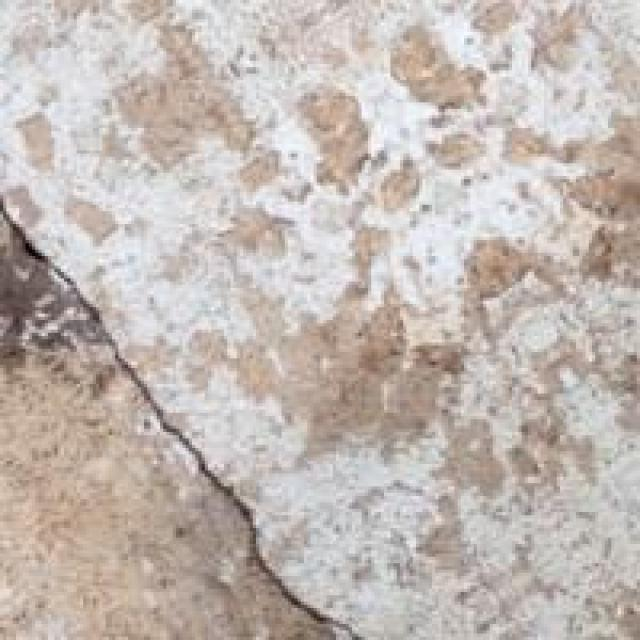crack: (0, 169, 352, 636)
